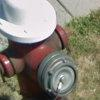Hydrant: (3, 2, 80, 100)
